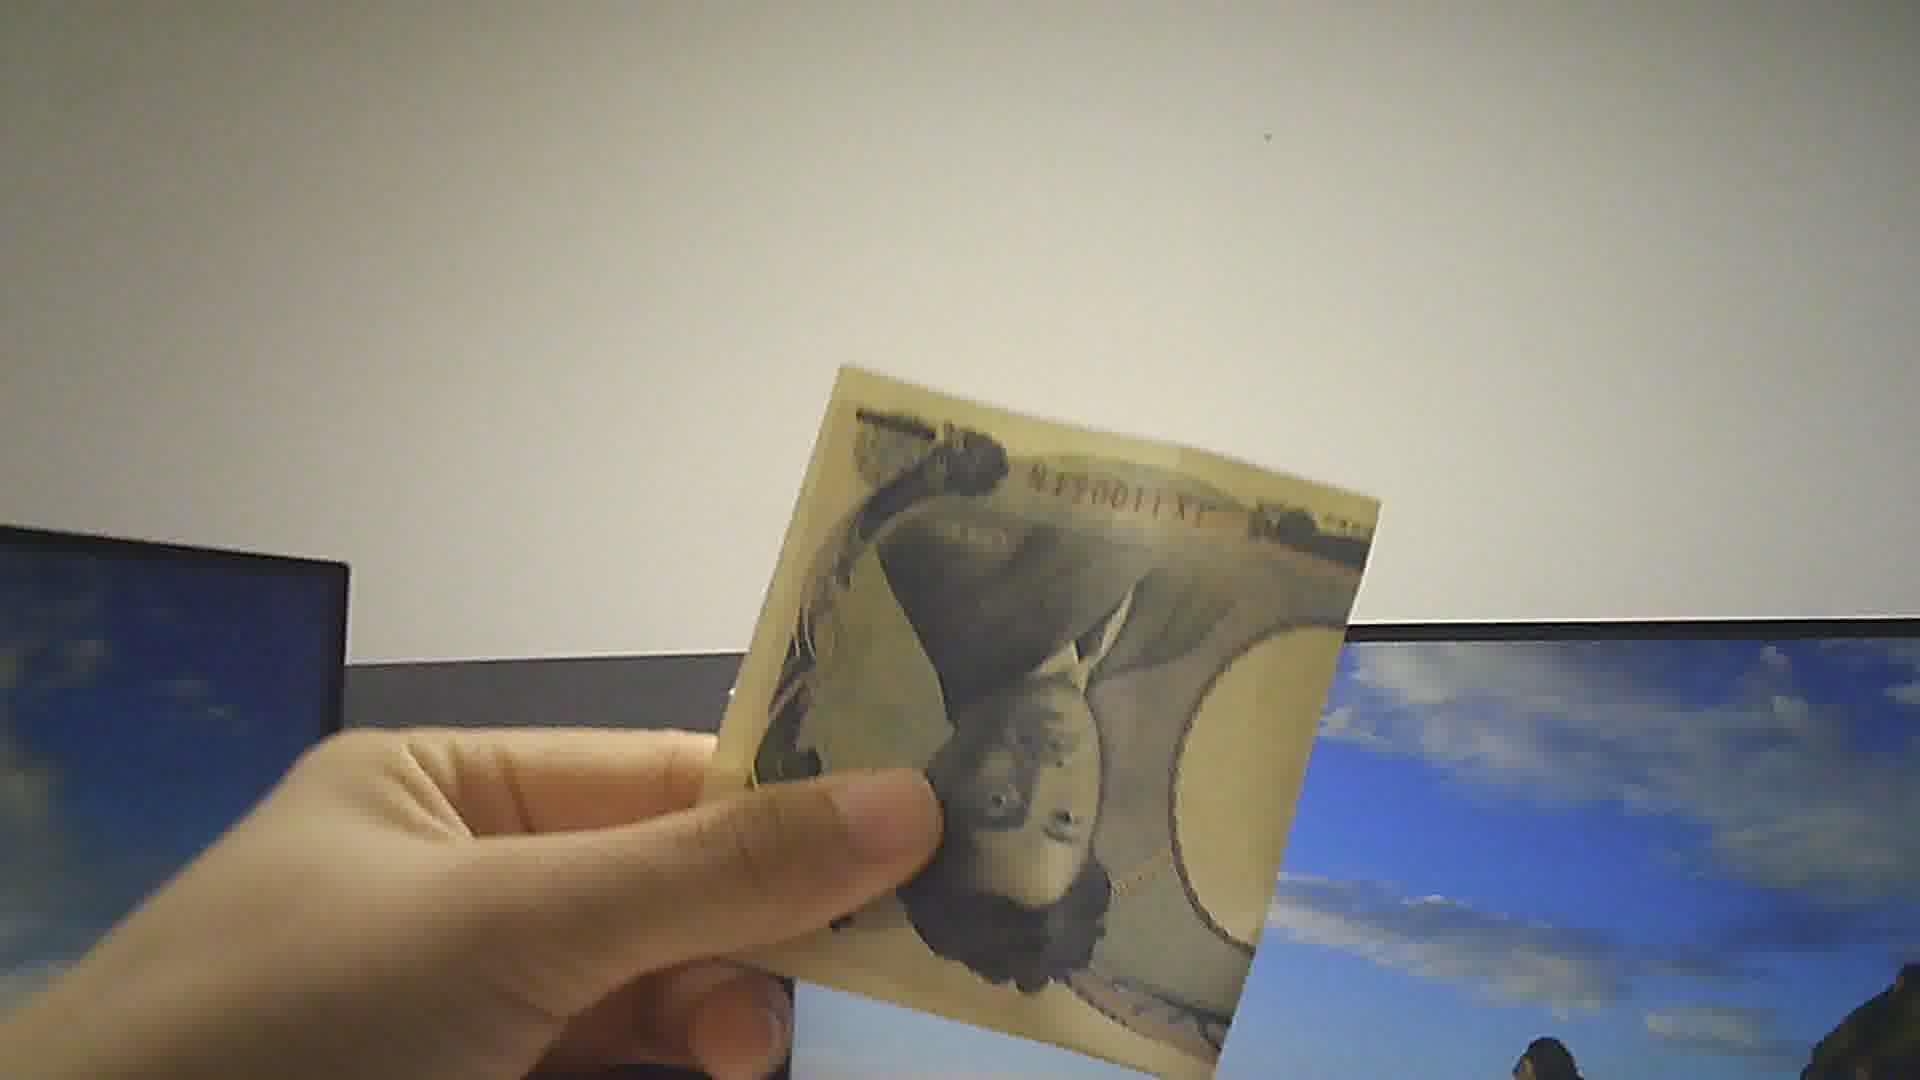1,000 Yen: (687, 345, 1410, 1077)
